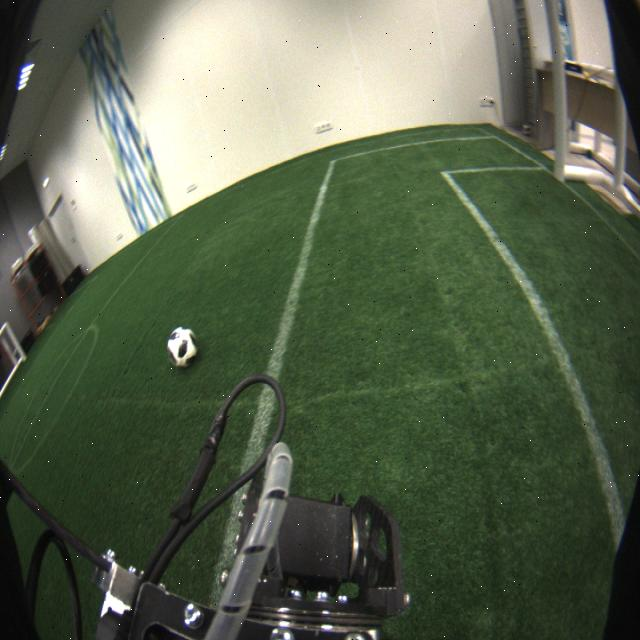ball: (168, 326, 198, 368)
goalpost: (542, 3, 572, 181), (4, 319, 29, 362)
